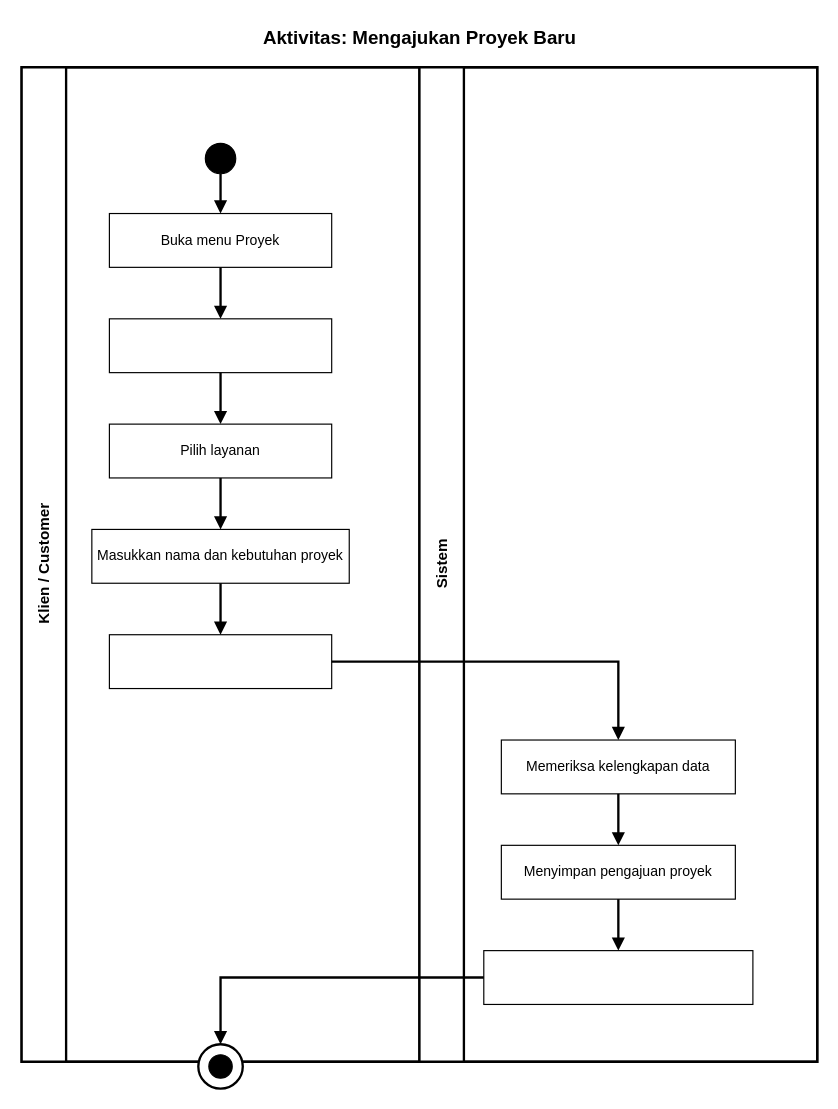
The diagram is 838 pixels wide and 1109 high, and some of its shapes have lost their labels. The centre of each missing label's shape, as x and y in pixels:
Kirim pengajuan: pixel 220 661
Klik "Ajukan Proyek": pixel 220 345
Menampilkan pesan pengajuan berhasil: pixel 618 976
